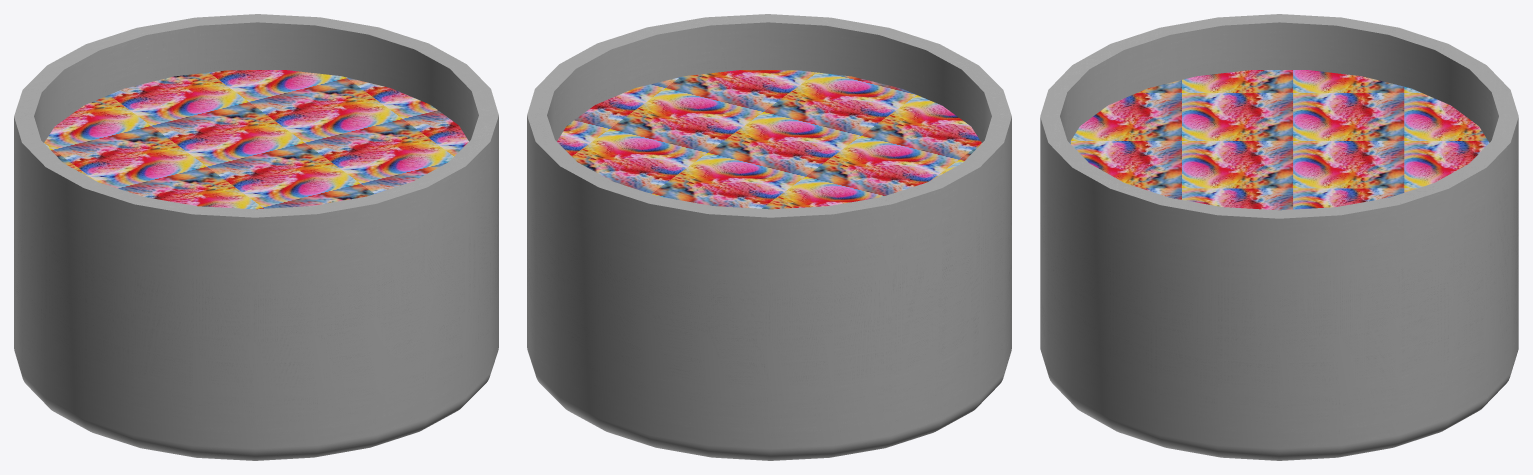
The model's file is icecream.dae.
The picture shows the model from 3 angles, left to right: view 1: azimuth 30°, elevation 25°; view 2: azimuth 150°, elevation 25°; view 3: azimuth 270°, elevation 25°; orthographic projection.
Parts seen in each view (by area): view 1: SketchUp, SketchUp_002; view 2: SketchUp, SketchUp_002; view 3: SketchUp, SketchUp_002.
Boxes of the visible parts, x1,y1,x2,y2 form: SketchUp: [14, 14, 498, 460]; SketchUp_002: [44, 70, 468, 209]; SketchUp: [527, 14, 1011, 460]; SketchUp_002: [557, 70, 981, 209]; SketchUp: [1040, 14, 1518, 460]; SketchUp_002: [1069, 70, 1489, 210].
Bounding box in the file's own units: 1.05 × 1.04 × 0.6046.
2 materials, 2 textured.
